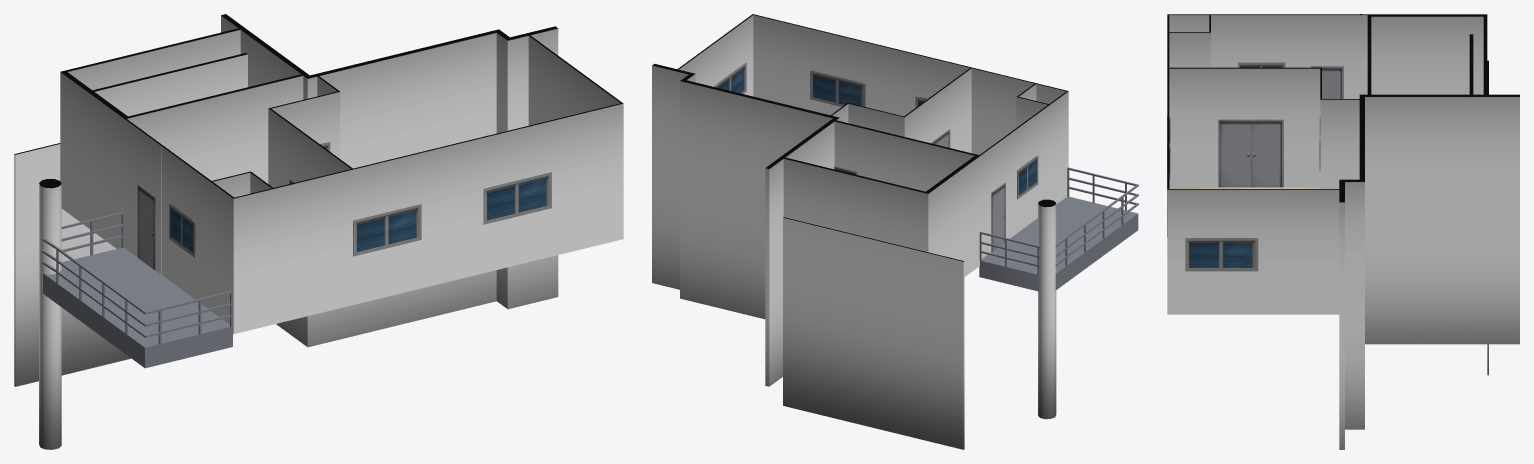
The model's file is soulbrain_T3-5-2F.glb.
The picture shows the model from 3 angles, left to right: view 1: azimuth 30°, elevation 25°; view 2: azimuth 150°, elevation 25°; view 3: azimuth 270°, elevation 25°; orthographic projection. The views are drawn at different scales.
Visible parts, largest first — view 1: Line1097, Line010, Box160, Railing003, Box242; view 2: Line1097, Line010, Box160, Railing003, Box242; view 3: Line1097, Box242, Box160.
Part boxes in pixels (x1=…): Line1097: x1=14, y1=14, x2=623, y2=449; Line010: x1=43, y1=247, x2=232, y2=368; Box160: x1=169, y1=142, x2=551, y2=257; Railing003: x1=42, y1=211, x2=232, y2=344; Box242: x1=137, y1=179, x2=294, y2=270; Line1097: x1=652, y1=14, x2=1068, y2=449; Line010: x1=979, y1=196, x2=1138, y2=291; Box160: x1=714, y1=62, x2=1038, y2=199; Railing003: x1=979, y1=167, x2=1138, y2=275; Box242: x1=834, y1=129, x2=1005, y2=251; Line1097: x1=1167, y1=14, x2=1519, y2=449; Box242: x1=1218, y1=66, x2=1343, y2=187; Box160: x1=1167, y1=62, x2=1320, y2=271.
Bounding box in the file's own units: 14.8 × 8.5 × 9.69.
8 materials, 7 textured.
